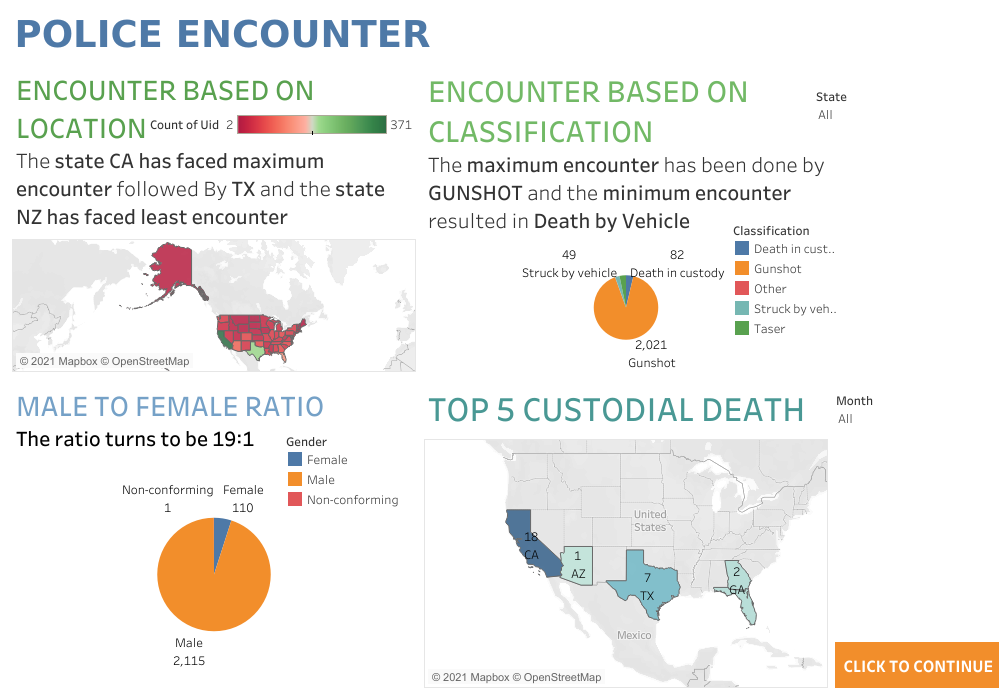

The dashboard page shown, as its layout file describes it:
{"tool":"tableau","page":{"name":"POLICE ENCOUNTER 1","canvas":[1000,700],"ordinal":0},"visuals":[{"type":"title","box":[8,8,984,56]},{"type":"worksheet","title":"Encounter Location","mark":"Automatic","box":[8,64,412,314]},{"type":"worksheet","title":"Encounter Classification","mark":"Pie","box":[420,64,412,314]},{"type":"filter","title":"Encounter Classification","param":"[federated.1ggvuyj1x2qh2l18j8qhv034s8vt].[none:state:nk]","box":[816,85.8,168,49]},{"type":"legend","title":"Encounter Location","param":"[federated.1ggvuyj1x2qh2l18j8qhv034s8vt].[cnt:uid:qk]","box":[150,111,267,37]},{"type":"legend","title":"Encounter Classification","param":"[federated.1ggvuyj1x2qh2l18j8qhv034s8vt].[none:classification:nk]","box":[732,219,107,155]},{"type":"worksheet","title":"Male to female ratio","mark":"Pie","box":[8,378,412,314]},{"type":"worksheet","title":"TOP 5 CUSTODIAL DEATH","mark":"Automatic","box":[420,378,412,314]},{"type":"filter","title":"Encounter Classification","param":"[federated.1ggvuyj1x2qh2l18j8qhv034s8vt].[none:month:nk]","box":[836,390,168,49]},{"type":"legend","title":"Male to female ratio","param":"[federated.1ggvuyj1x2qh2l18j8qhv034s8vt].[none:gender:nk]","box":[285,429.6,118,97.1]},{"type":"dashboard-object","box":[835,642.2,167,45.5]}]}

Visuals, with their boxes in screenshot pixels (x1, y1, x2, y2), scaled from the page's 1000x700 canvas onto the 999x699 screenshot:
title: 8 8 991 64
"Encounter Location" worksheet: 8 64 420 377
"Encounter Classification" worksheet (Pie marks): 420 64 831 377
"Encounter Classification" filter: 815 86 983 135
"Encounter Location" legend: 150 111 417 148
"Encounter Classification" legend: 731 219 838 373
"Male to female ratio" worksheet (Pie marks): 8 377 420 691
"TOP 5 CUSTODIAL DEATH" worksheet: 420 377 831 691
"Encounter Classification" filter: 835 389 998 438
"Male to female ratio" legend: 285 429 403 526
dashboard-object: 834 641 998 687
